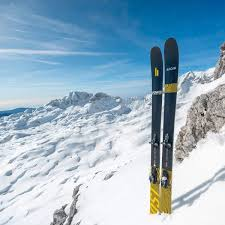skis: (146, 37, 181, 217)
